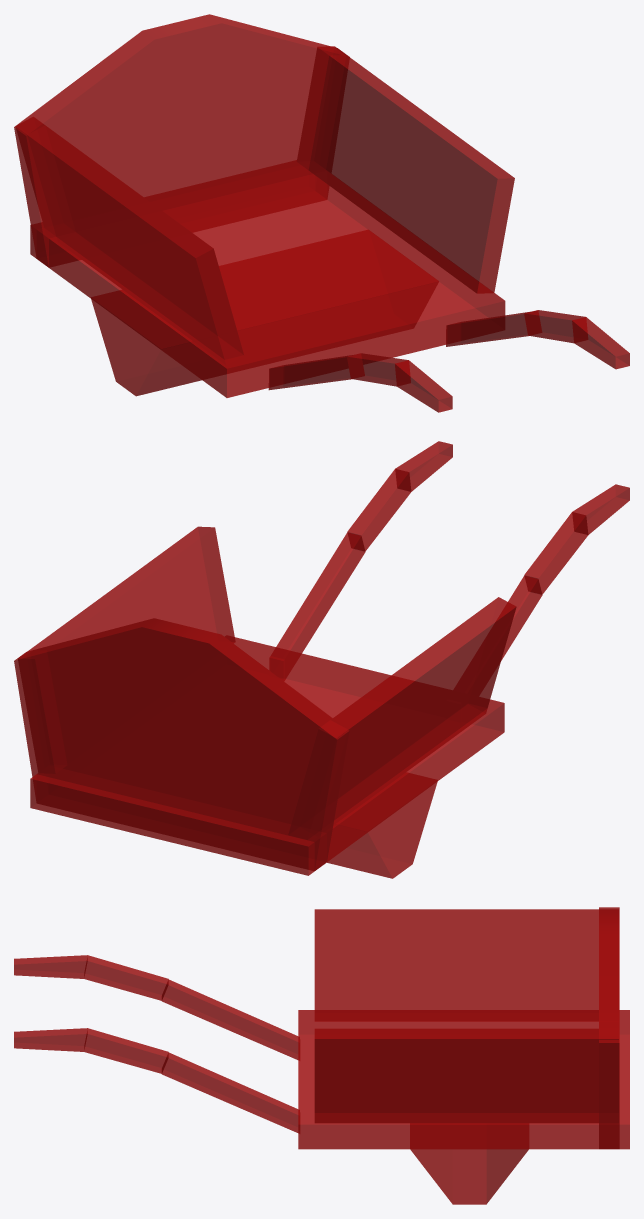
The model's file is SM_Prop_HandCart_01_Collision.fbx.
The picture shows the model from 3 angles, top to bottom: view 1: azimuth 30°, elevation 25°; view 2: azimuth 150°, elevation 25°; view 3: azimuth 270°, elevation 25°; orthographic projection. The views are drawn at different scales.
Visible parts, largest first — view 1: SM_Prop_HandCart_01_Collision; view 2: SM_Prop_HandCart_01_Collision; view 3: SM_Prop_HandCart_01_Collision.
Boxes of the visible parts, bbox=[...] form: SM_Prop_HandCart_01_Collision: bbox=[14, 14, 629, 412]; SM_Prop_HandCart_01_Collision: bbox=[14, 441, 629, 878]; SM_Prop_HandCart_01_Collision: bbox=[14, 907, 629, 1204].
Size of the model in its own units: 141 by 112 by 276.
